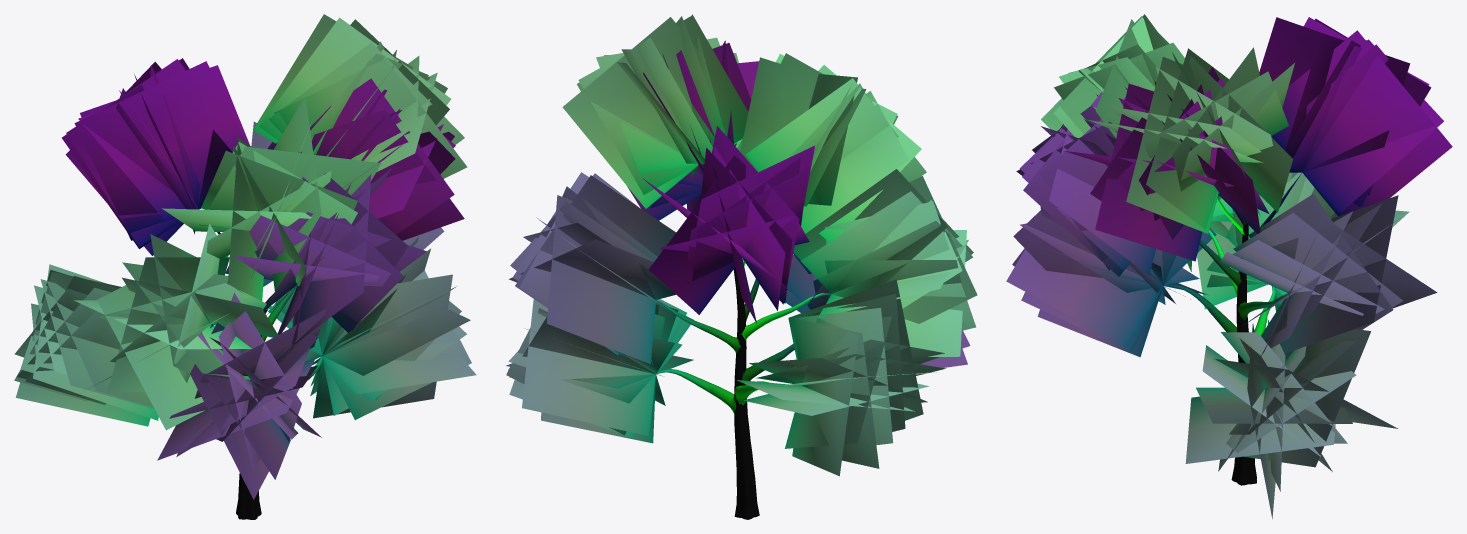
The model's file is URP_P6_Tree_2_LOD_1.fbx.
3 views of the same model, side by side, from view 1: azimuth 30°, elevation 25°; view 2: azimuth 150°, elevation 25°; view 3: azimuth 270°, elevation 25° (orthographic). The views are drawn at different scales.
Parts seen in each view (by area): view 1: Tree_2_LOD_1; view 2: Tree_2_LOD_1; view 3: Tree_2_LOD_1.
Part boxes in pixels (x1=…): Tree_2_LOD_1: x1=14, y1=14, x2=476, y2=519; Tree_2_LOD_1: x1=506, y1=14, x2=977, y2=519; Tree_2_LOD_1: x1=1006, y1=14, x2=1452, y2=519.
Bounding box in the file's own units: 531 × 572 × 482.
